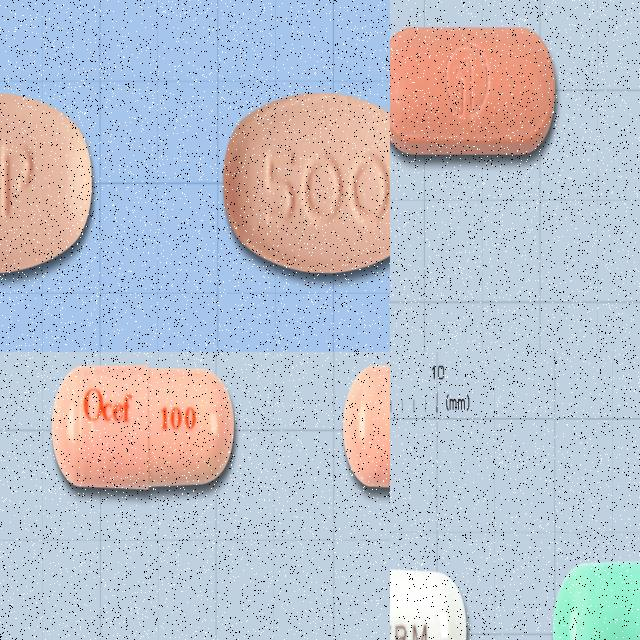Monocin: (390, 27, 556, 152)
Omnicef Cap: (52, 364, 235, 492), (341, 364, 390, 491)
Retami Tab: (223, 91, 390, 274), (0, 91, 92, 275)
Viramid Cap-200mg: (554, 557, 640, 640), (390, 560, 468, 640)
